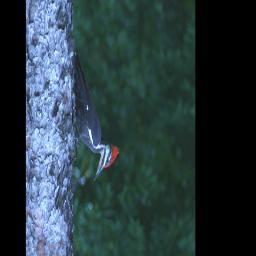Woodpecker: (71, 46, 119, 186)
